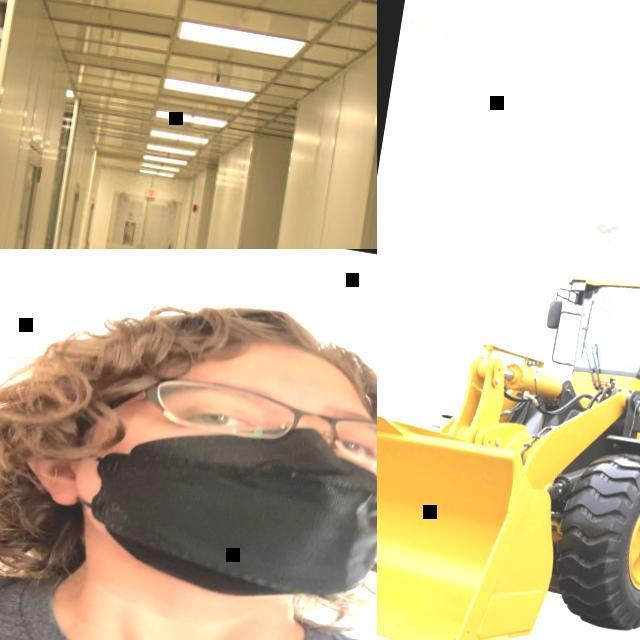no_helmet: (34, 272, 377, 414)
